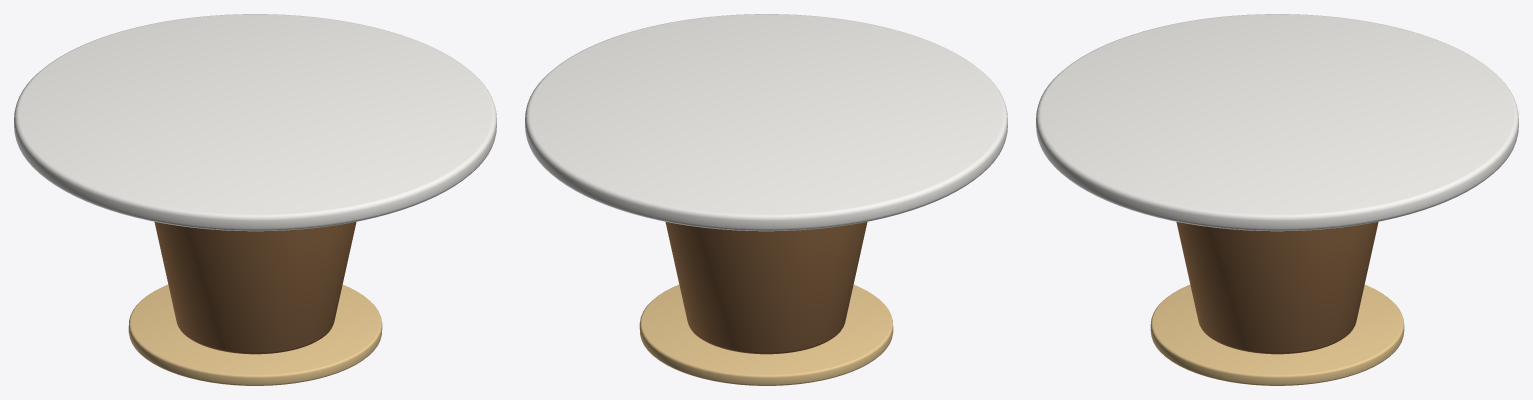
File: mesa-luna.glb
The picture shows the model from 3 angles, left to right: view 1: azimuth 30°, elevation 25°; view 2: azimuth 150°, elevation 25°; view 3: azimuth 270°, elevation 25°; orthographic projection.
Visible parts, largest first — view 1: mesa_cubierta, mesa_base, mesa_zocalo; view 2: mesa_cubierta, mesa_base, mesa_zocalo; view 3: mesa_cubierta, mesa_base, mesa_zocalo.
Boxes of the visible parts, box(x1,y1,x2,y2) form: mesa_cubierta: box(14, 14, 496, 231); mesa_base: box(154, 221, 356, 354); mesa_zocalo: box(128, 285, 382, 385); mesa_cubierta: box(525, 14, 1007, 231); mesa_base: box(665, 221, 867, 354); mesa_zocalo: box(639, 285, 893, 385); mesa_cubierta: box(1036, 14, 1518, 231); mesa_base: box(1176, 221, 1378, 354); mesa_zocalo: box(1150, 284, 1404, 385).
Size of the model in its own units: 0.8 by 0.4 by 0.8.
